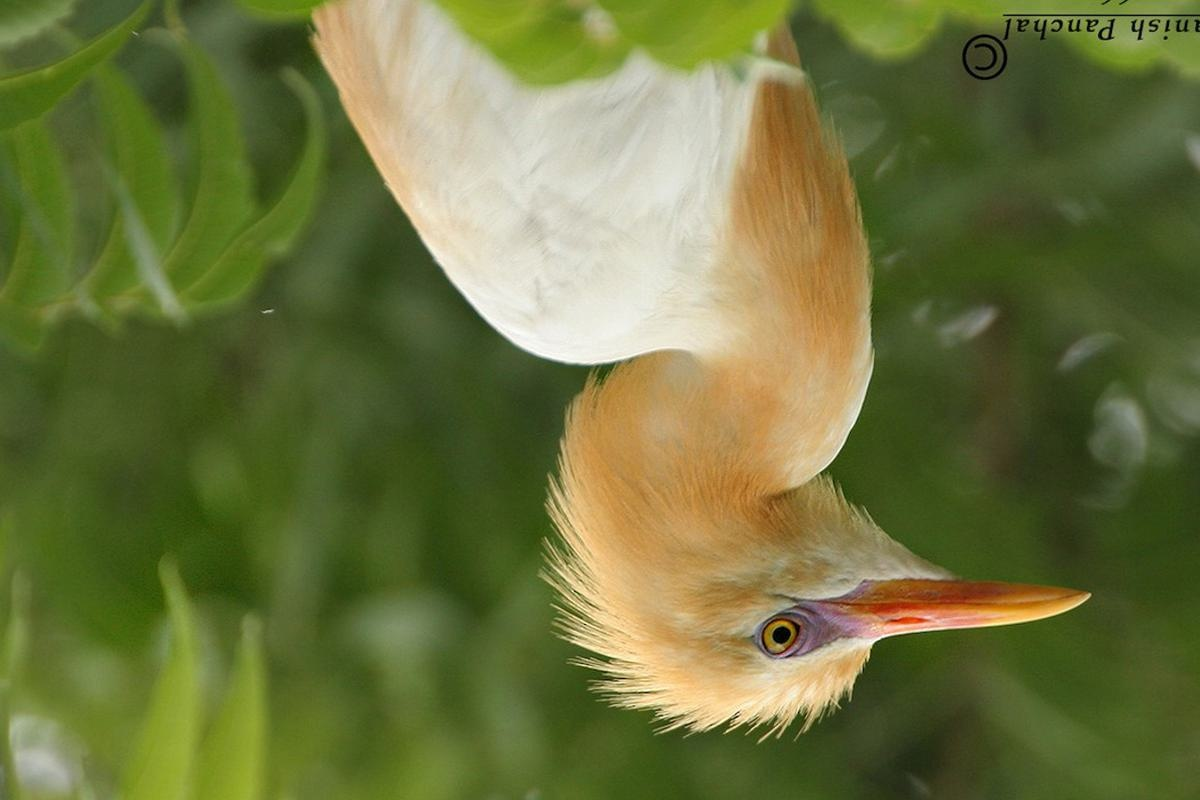egret: (350, 1, 1111, 730)
